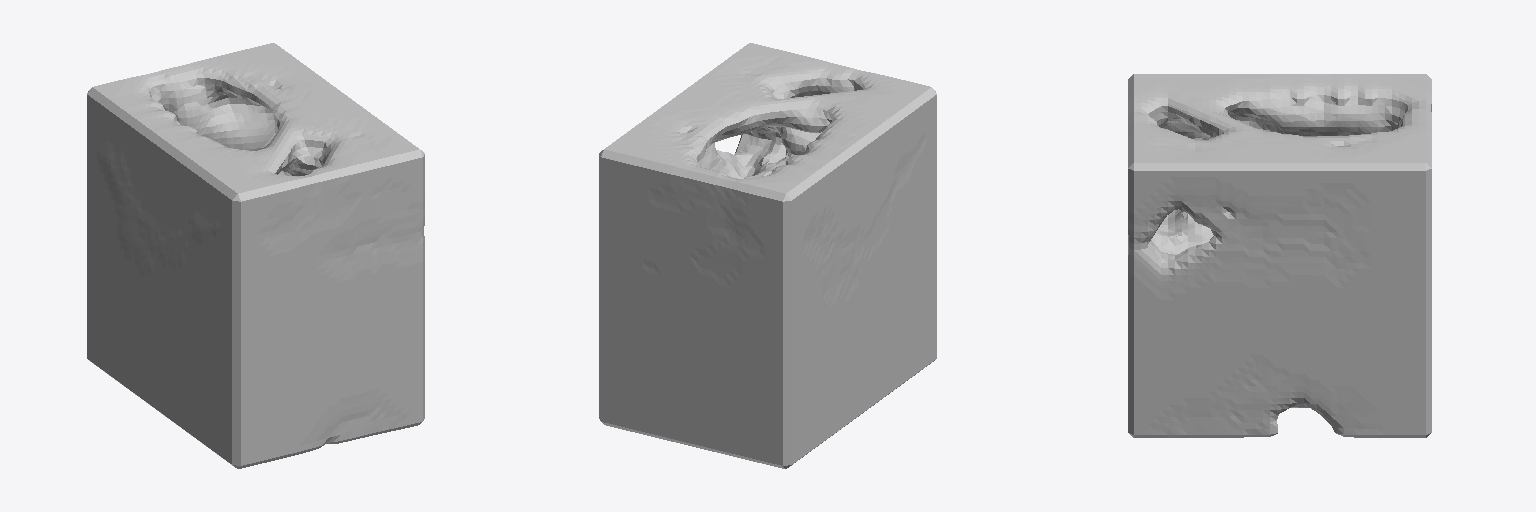
The picture shows the model from 3 angles: view 1: azimuth 30°, elevation 25°; view 2: azimuth 150°, elevation 25°; view 3: azimuth 270°, elevation 25°; orthographic projection.
Visible parts, largest first — view 1: Liquid_Domain; view 2: Liquid_Domain; view 3: Liquid_Domain.
Part boxes in pixels (bbox=[...]): Liquid_Domain: bbox=[87, 43, 424, 468]; Liquid_Domain: bbox=[599, 43, 936, 468]; Liquid_Domain: bbox=[1128, 74, 1431, 437].
Size of the model in its own units: 79.09 by 108 by 108.